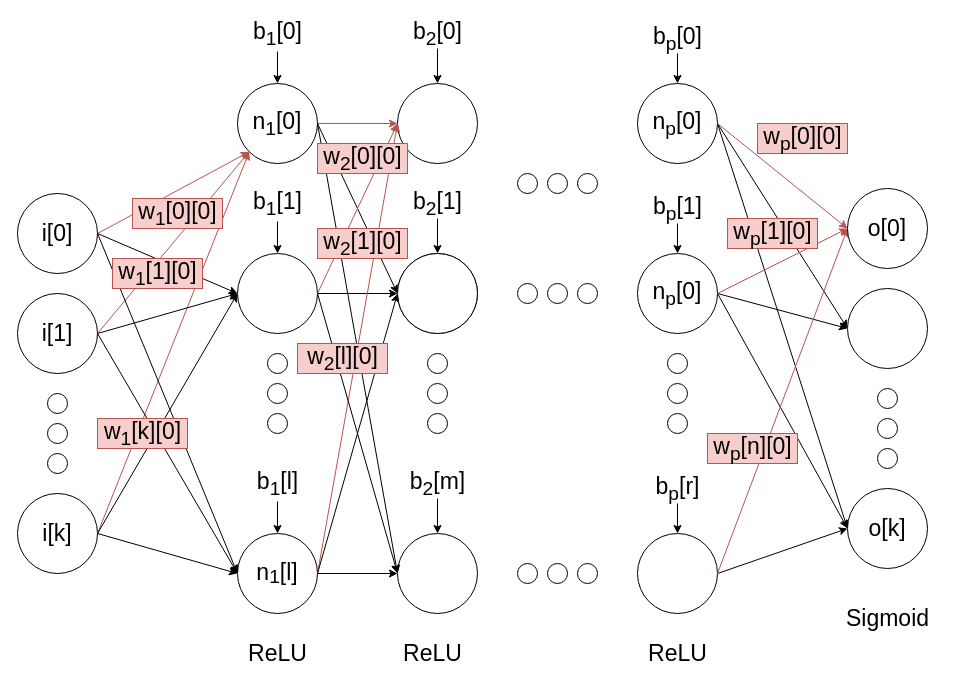
The diagram is 955 pixels wide and 684 high, and some of its shapes have lost their labels. Each missing label, with the centre of its shape:
"n 1 [1]" belongs at (x=277, y=293).
"n 2 [0]" belongs at (x=437, y=123).
"n 2 [1]" belongs at (x=437, y=293).
"n 2 [m]" belongs at (x=437, y=573).
"n p [r]" belongs at (x=677, y=573).
"o[1]" belongs at (x=887, y=328).
